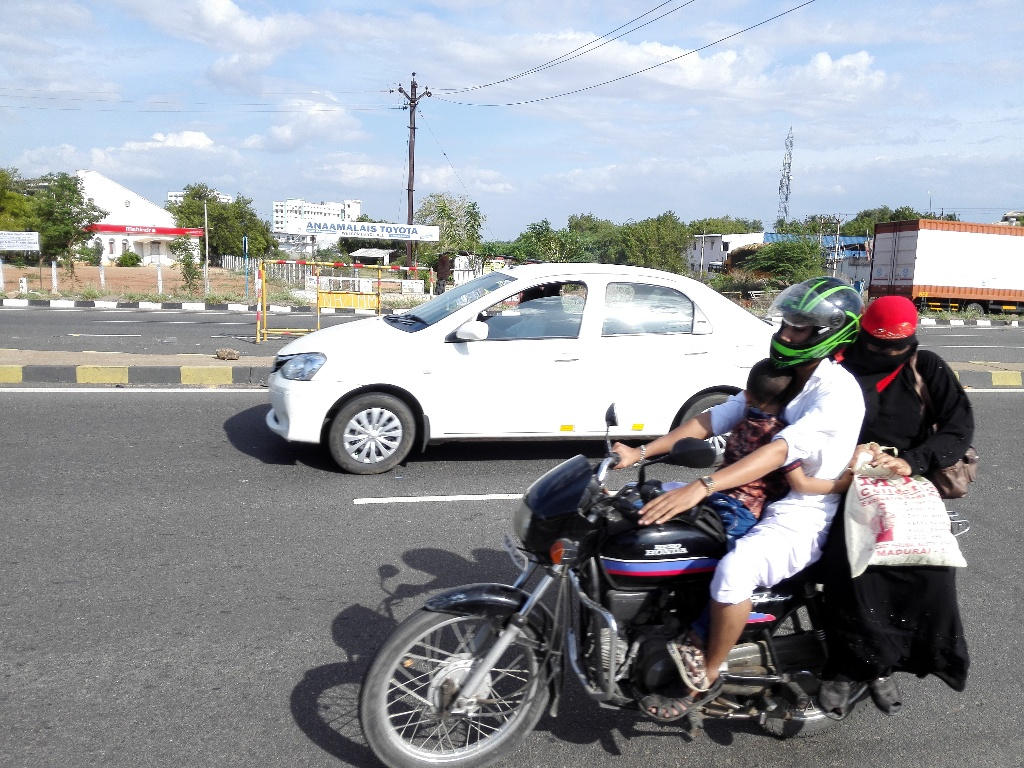biker: (342, 229, 1010, 768)
helmet: (763, 260, 863, 360)
nohelmet: (863, 275, 926, 382), (738, 361, 807, 426)
